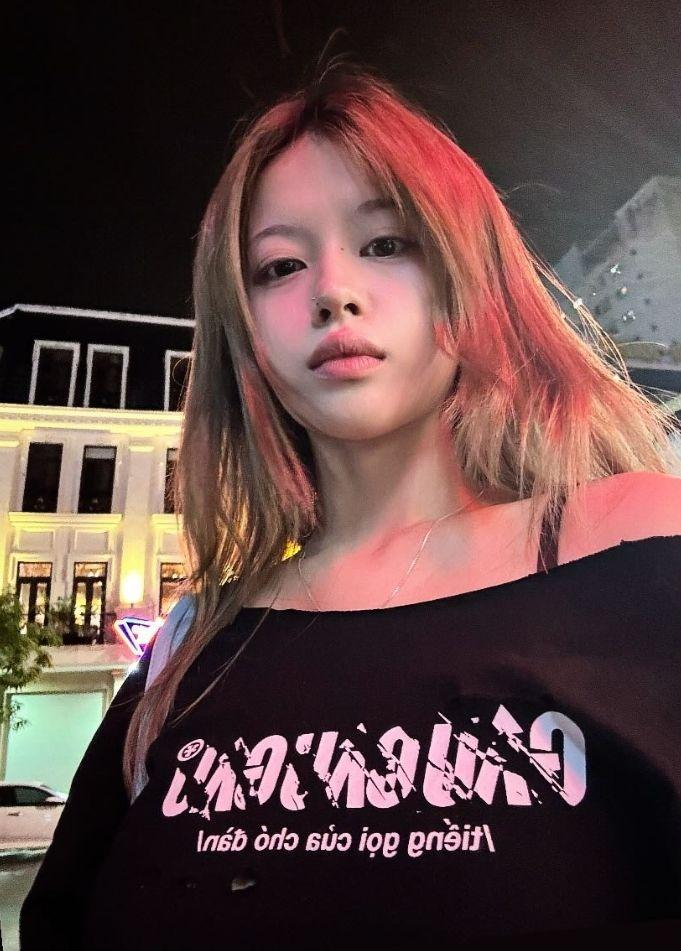non-dog: (17, 72, 681, 951)
